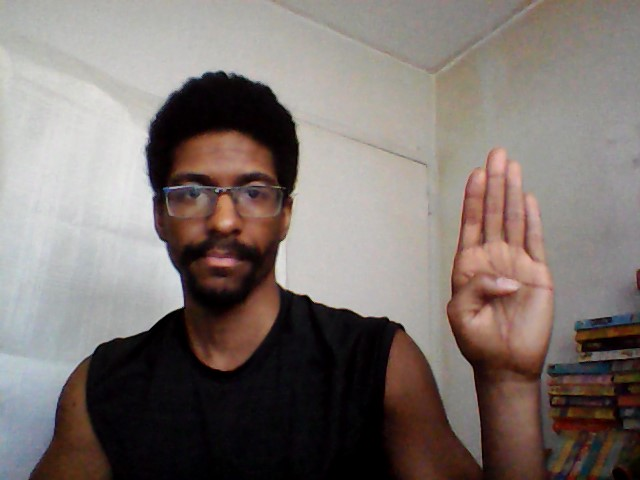b: (444, 143, 558, 359)
